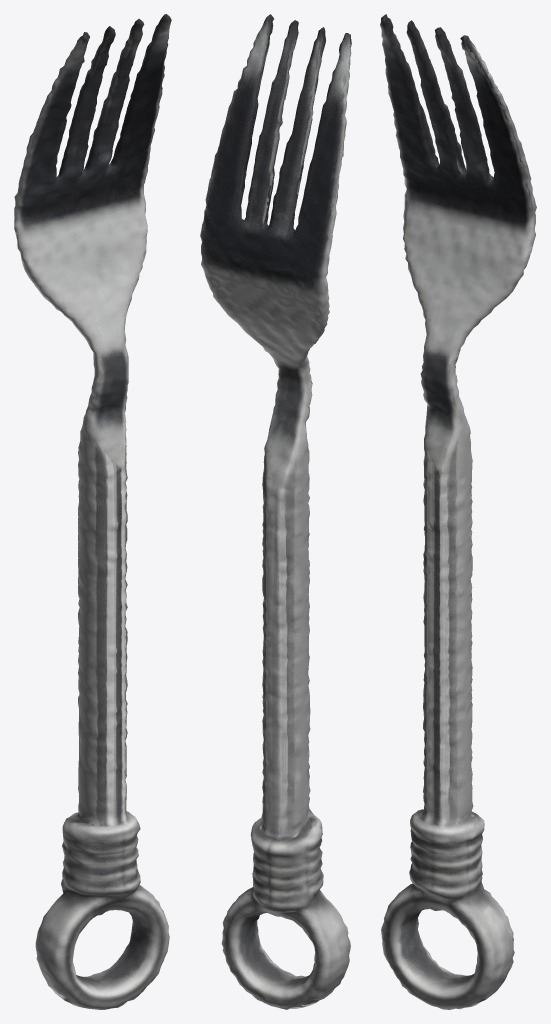
Rendered from como_dinner_fork_0308230233_texture.glb.
3 renders of one model, left to right at view 1: azimuth 30°, elevation 25°; view 2: azimuth 150°, elevation 25°; view 3: azimuth 330°, elevation 25°, orthographic. The views are drawn at different scales.
Visible parts, largest first — view 1: Mesh_0.002; view 2: Mesh_0.002; view 3: Mesh_0.002.
Boxes of the visible parts, box(x1,y1,x2,y2) form: Mesh_0.002: box(14, 14, 171, 1009); Mesh_0.002: box(200, 14, 351, 1009); Mesh_0.002: box(380, 14, 536, 1009).
Size of the model in its own units: 0.028 by 0.2032 by 0.0196.
1 material, 1 textured.
